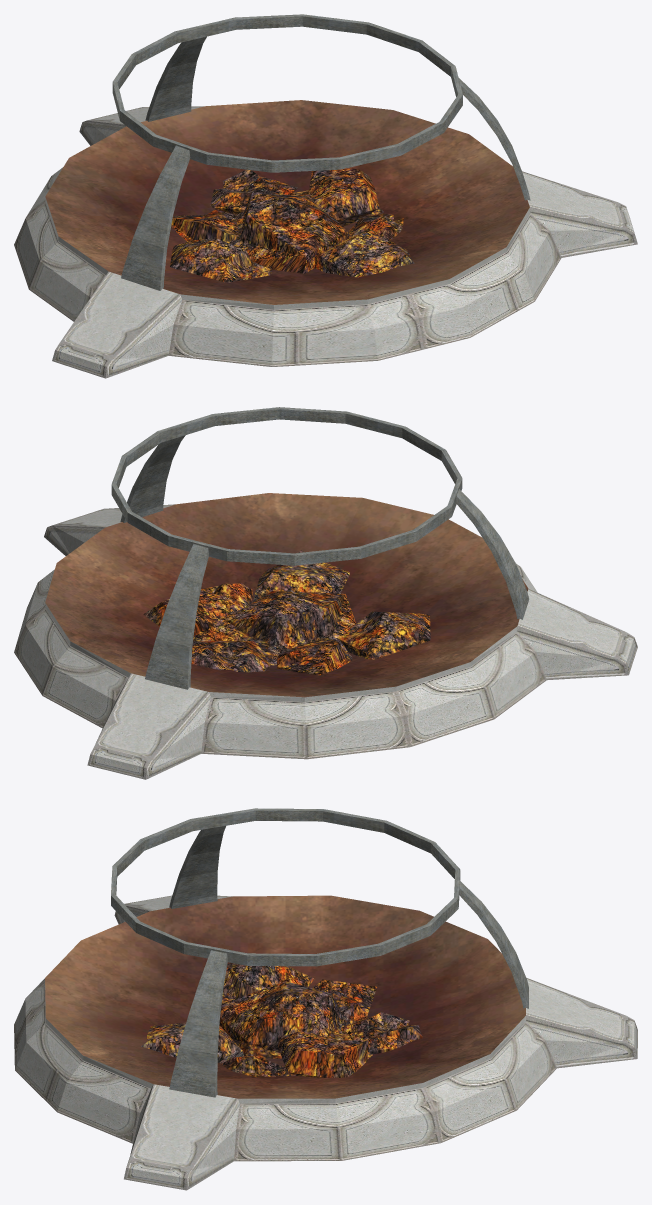
Rendered from thm_corl_fountain_brazier_round_s01_l0.fbx.
The picture shows the model from 3 angles, top to bottom: view 1: azimuth 30°, elevation 25°; view 2: azimuth 150°, elevation 25°; view 3: azimuth 270°, elevation 25°; orthographic projection.
Parts seen in each view (by area): view 1: mesh_node; view 2: mesh_node; view 3: mesh_node.
Part boxes in pixels (x1,y1,x2,y2): mesh_node: [14, 14, 637, 378]; mesh_node: [14, 407, 637, 779]; mesh_node: [14, 808, 637, 1190].
Size of the model in its own units: 9.68 by 2.59 by 8.92.
